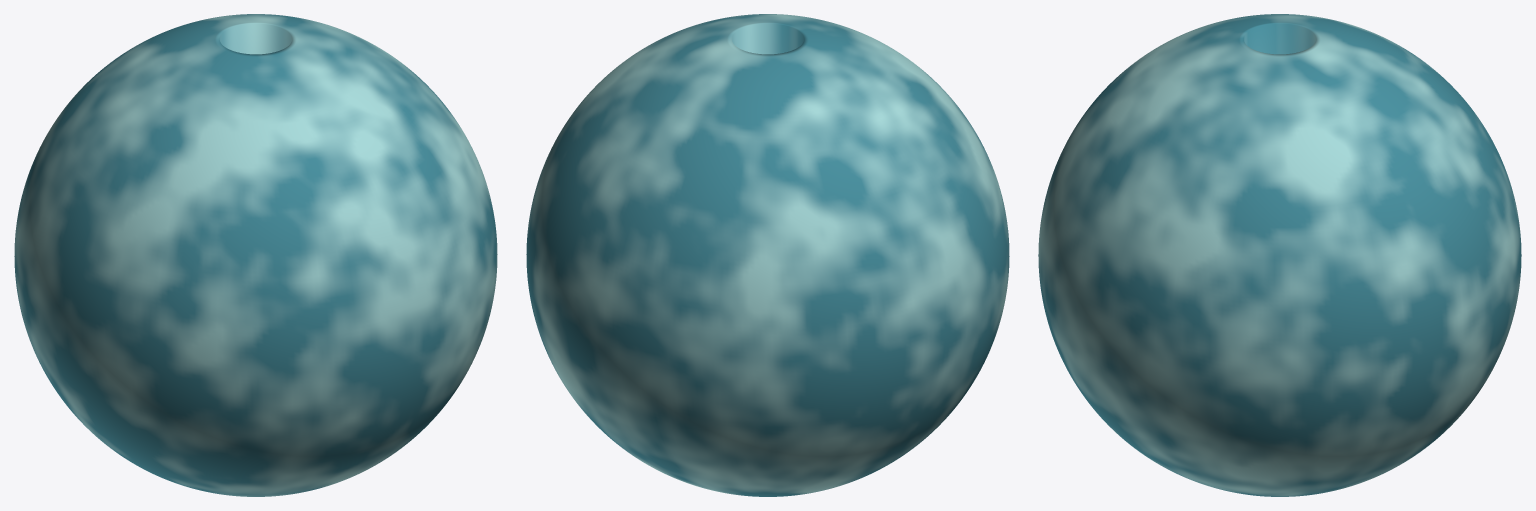
File: round.glb
The picture shows the model from 3 angles, left to right: view 1: azimuth 30°, elevation 25°; view 2: azimuth 150°, elevation 25°; view 3: azimuth 270°, elevation 25°; orthographic projection.
Visible parts, largest first — view 1: 圆珠; view 2: 圆珠; view 3: 圆珠.
Boxes of the visible parts, x1=… form: 圆珠: x1=14, y1=14, x2=497, y2=496; 圆珠: x1=526, y1=14, x2=1009, y2=496; 圆珠: x1=1038, y1=14, x2=1521, y2=496.
Size of the model in its own units: 0.008 by 0.00791 by 0.008.
